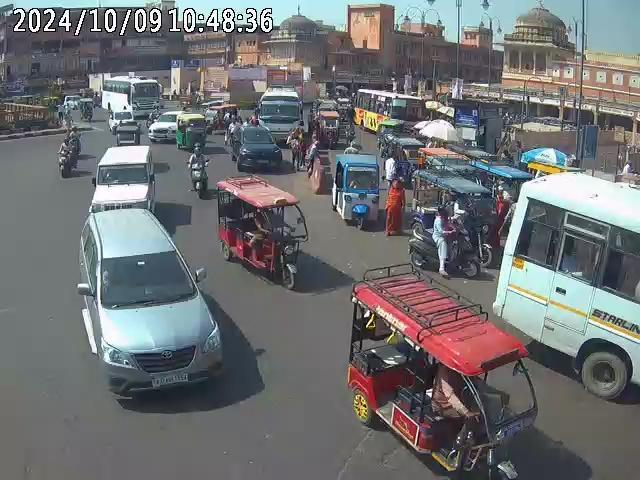auto: (346, 271, 540, 478), (408, 151, 524, 269), (214, 172, 307, 289), (332, 154, 381, 228), (175, 112, 207, 151), (316, 109, 342, 148)
bus: (491, 167, 638, 403), (354, 87, 428, 136), (258, 84, 304, 139), (103, 77, 162, 115)
car: (74, 205, 223, 406), (90, 144, 157, 216), (230, 123, 283, 171), (148, 109, 187, 142)
helmet: (194, 147, 203, 158), (64, 137, 70, 145)
license_plate: (150, 371, 190, 388)
person: (384, 178, 406, 236), (288, 124, 304, 170)
scooty-rider: (406, 206, 485, 278), (187, 146, 211, 199), (57, 136, 76, 178)
